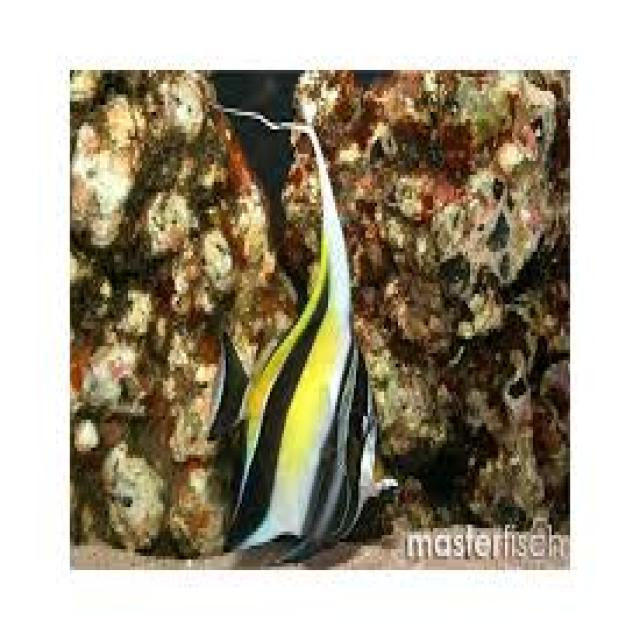MorishIdol: (201, 124, 398, 563)
